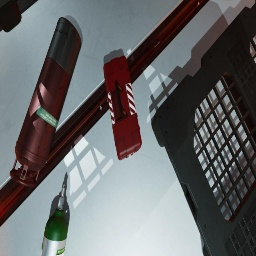0: (40, 184, 68, 256)
FirstAidBox ,: (103, 56, 142, 160)
NitrogenTank ,: (10, 17, 82, 188)
